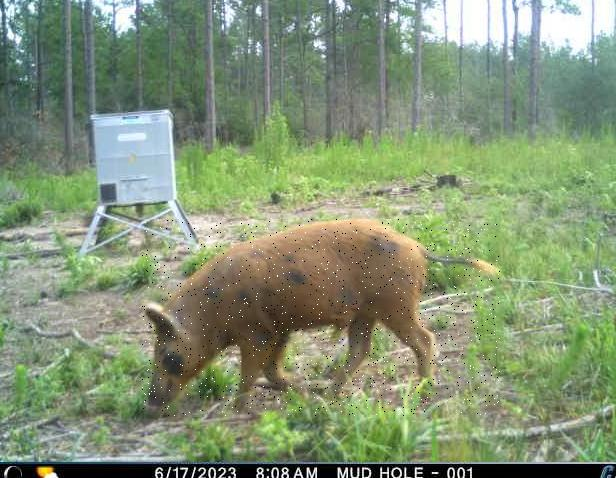Hog: (141, 220, 500, 417)
